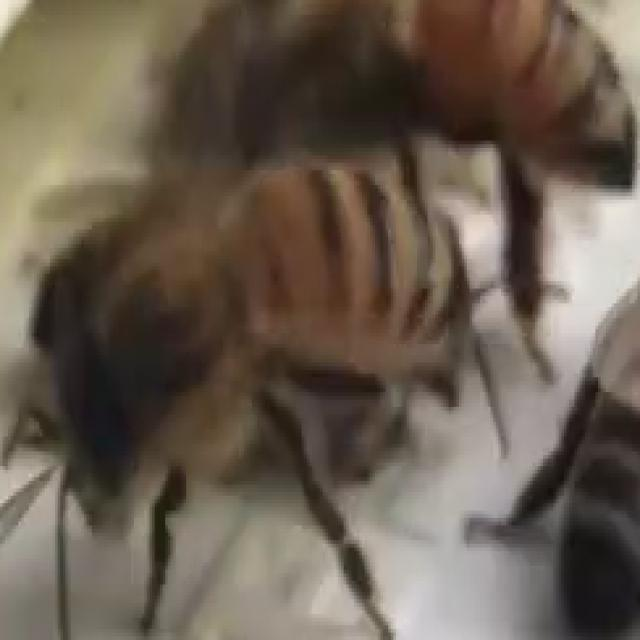honeybee: (60, 161, 488, 587), (152, 0, 640, 240), (495, 267, 639, 640)
